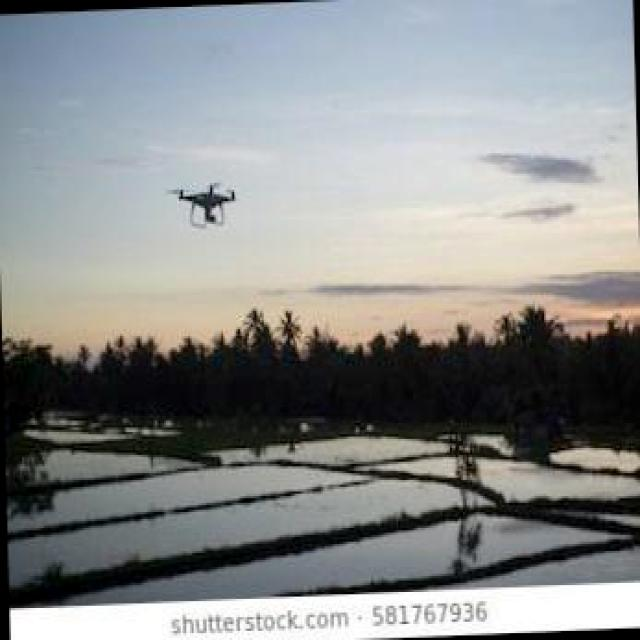drone: (164, 176, 238, 226)
